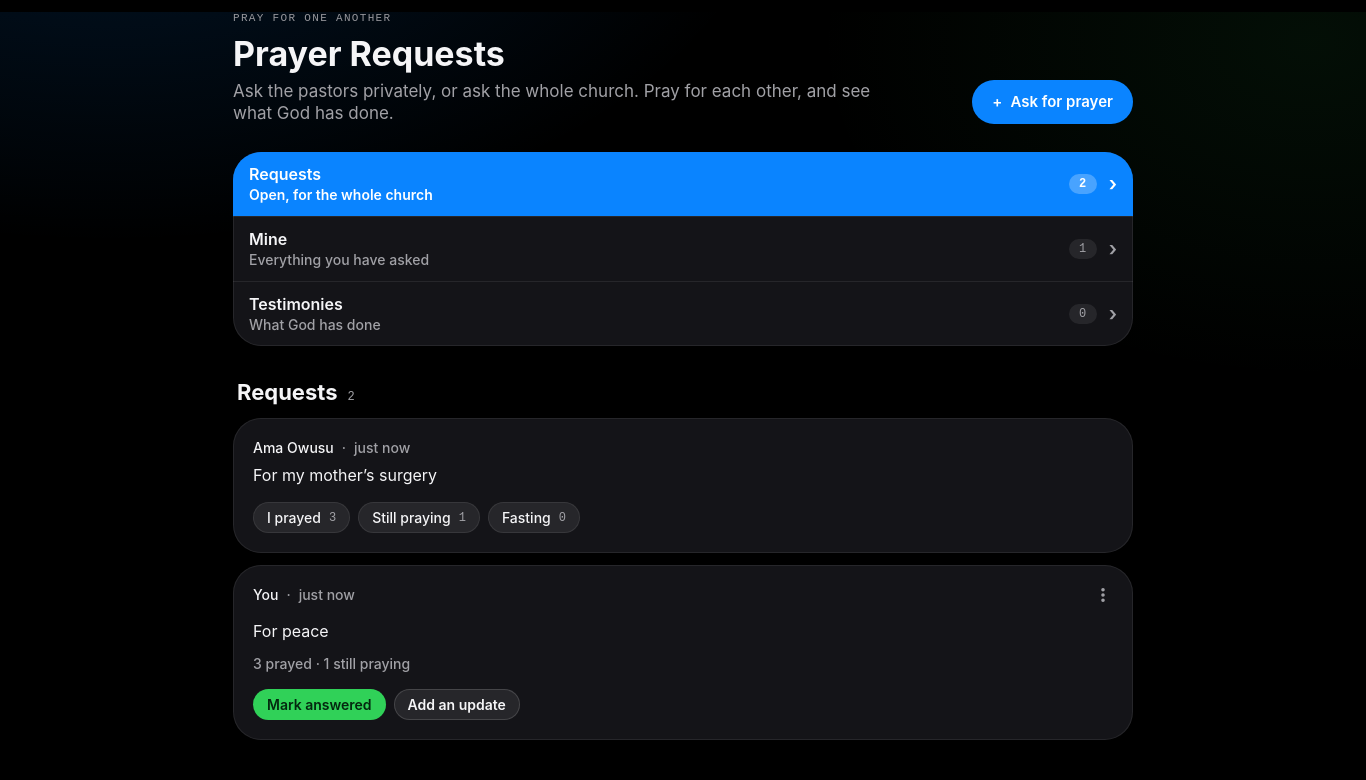
it: the sections › lists every section together, the chosen one marked, its requests after the list
Expected: the text "For my mother’s surgery" is shown, left=253, top=465, right=437, bottom=485
Click the button "Mine Everything you have asked 1 ›": [268, 239] box left=233, top=217, right=1133, bottom=281
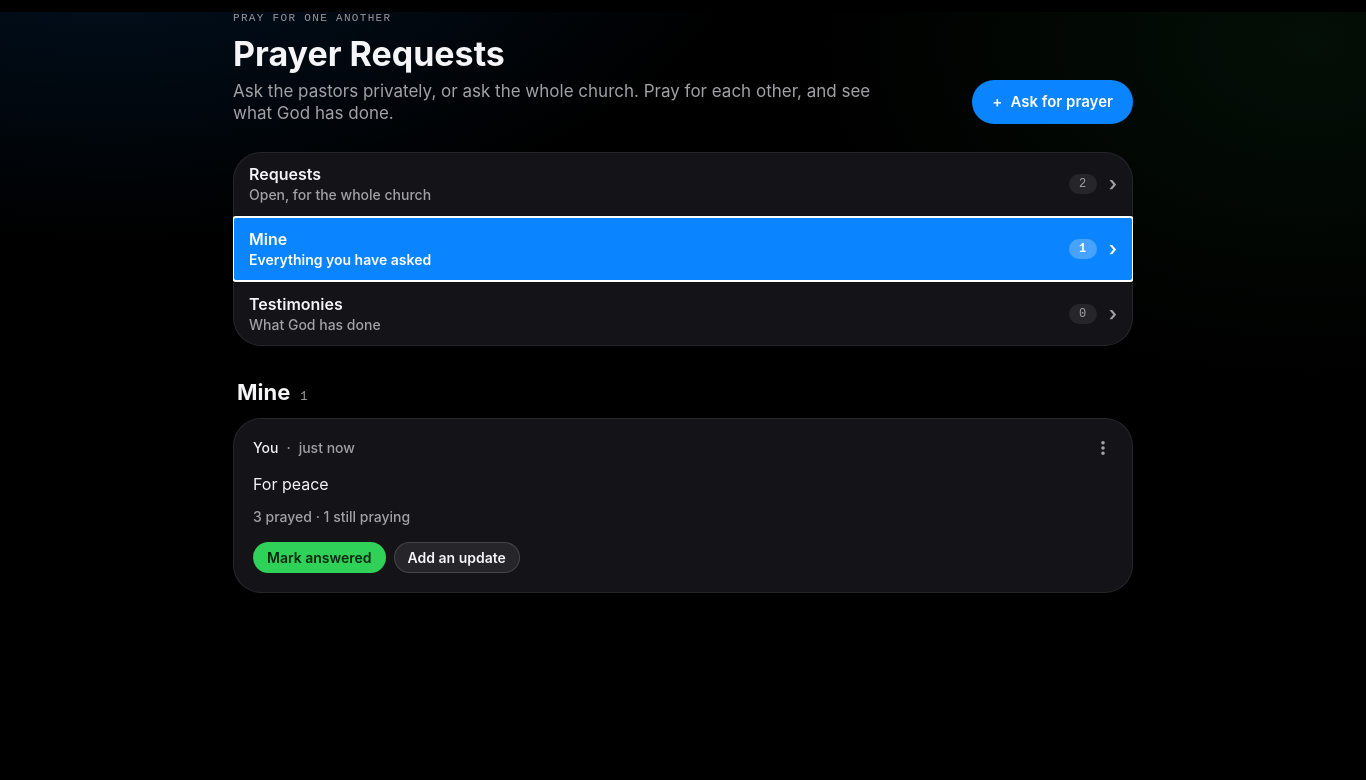
Expected: the text "For peace" is shown, left=253, top=474, right=329, bottom=494
Expected: the text "For my mother’s surgery" is gone
